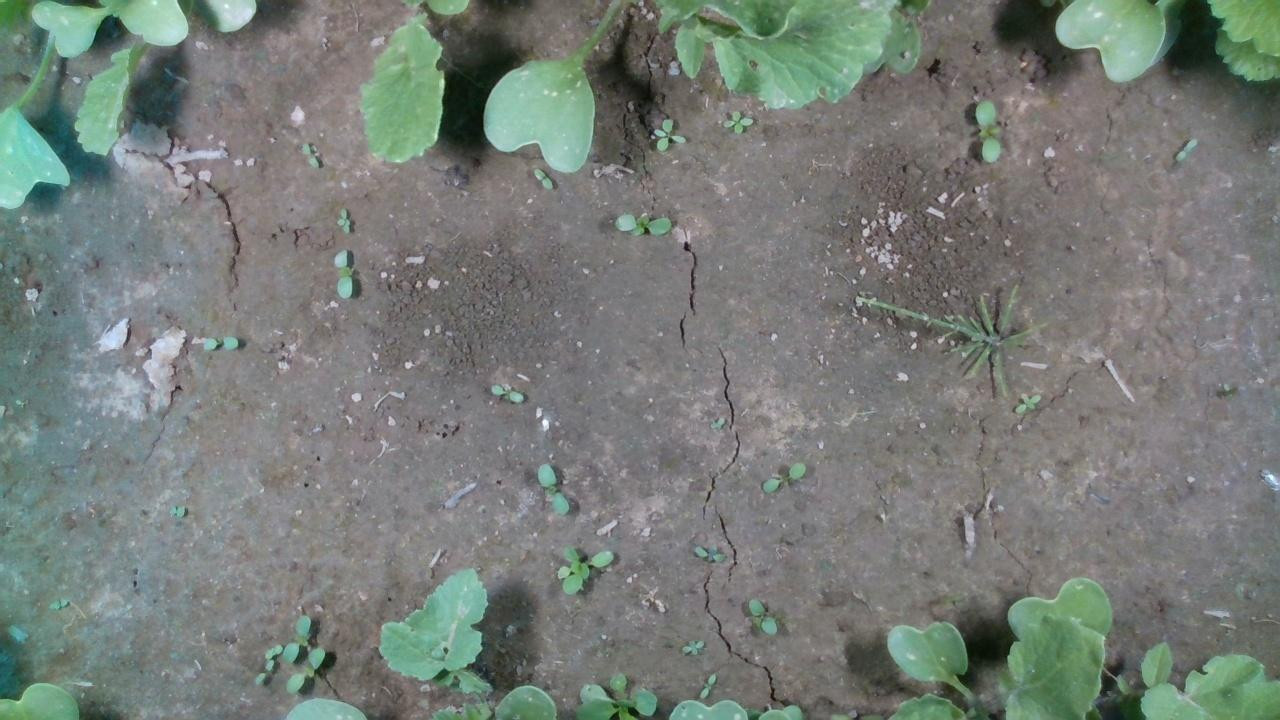weed: (973, 98, 1000, 163), (535, 462, 568, 515), (613, 212, 672, 236), (760, 461, 804, 492), (651, 118, 686, 152), (746, 597, 777, 634), (331, 247, 352, 298), (720, 110, 754, 133), (692, 544, 726, 563), (489, 383, 523, 402), (202, 334, 239, 351), (1174, 137, 1197, 161), (530, 166, 552, 190), (1014, 393, 1040, 413), (698, 672, 716, 699), (300, 142, 318, 169), (680, 638, 704, 654), (336, 207, 350, 233)
